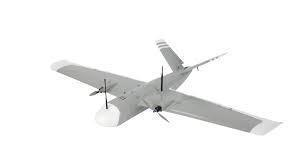Airplane: (35, 18, 286, 147)
